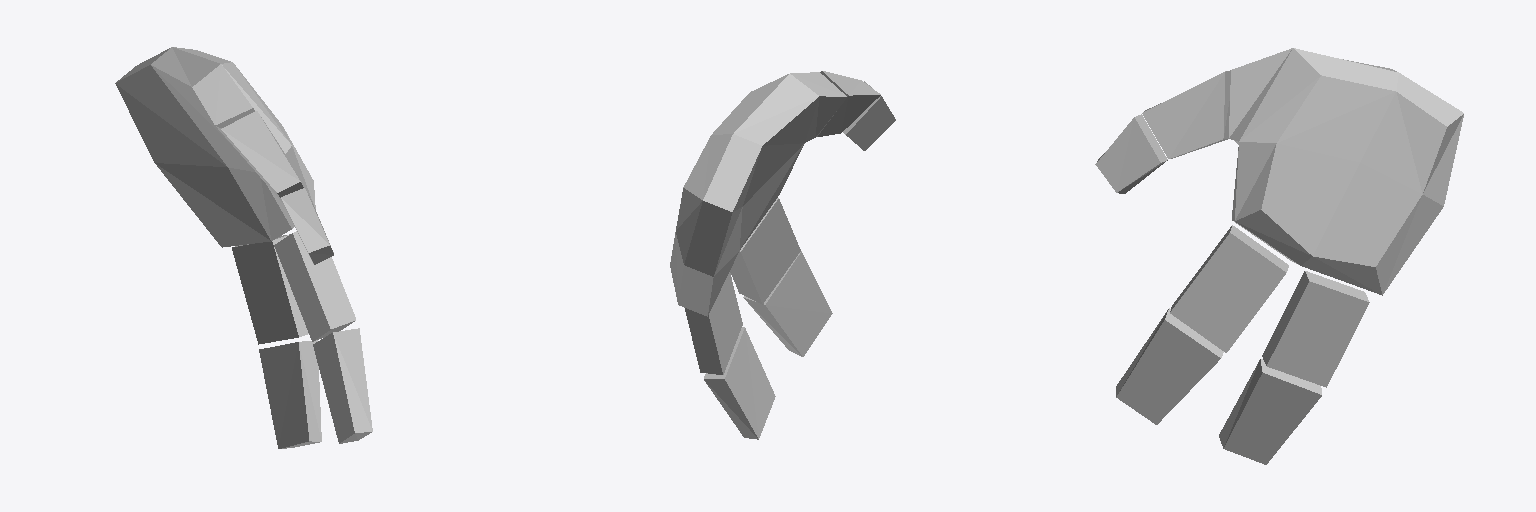
The model's file is HandL.obj.
3 renders of one model, left to right at view 1: azimuth 30°, elevation 25°; view 2: azimuth 150°, elevation 25°; view 3: azimuth 270°, elevation 25°, orthographic.
Visible parts, largest first — view 1: HandL_Cube.005; view 2: HandL_Cube.005; view 3: HandL_Cube.005.
Part boxes in pixels (x1,y1,x2,y2): HandL_Cube.005: (115, 47, 372, 448); HandL_Cube.005: (670, 71, 895, 439); HandL_Cube.005: (1095, 48, 1463, 464).
Bounding box in the file's own units: 0.2623 × 0.8065 × 0.6942.